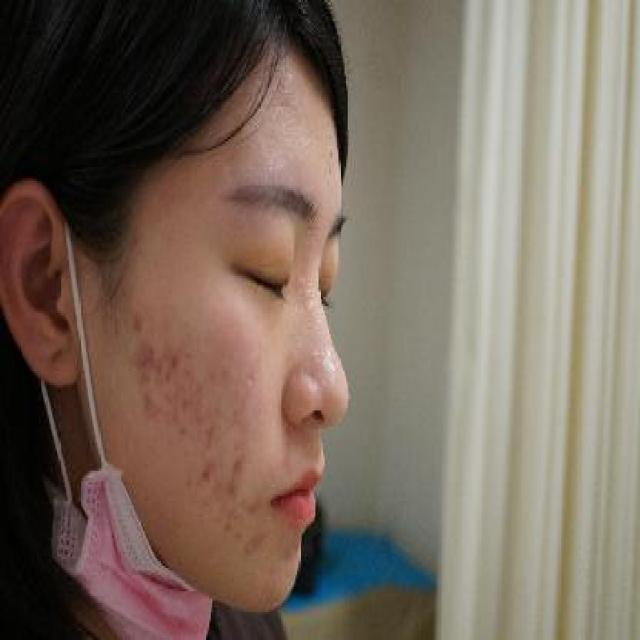Acne: (128, 334, 163, 401), (182, 378, 208, 427), (196, 450, 222, 496), (166, 397, 189, 448), (226, 454, 249, 501), (128, 304, 150, 348), (200, 420, 223, 459)
